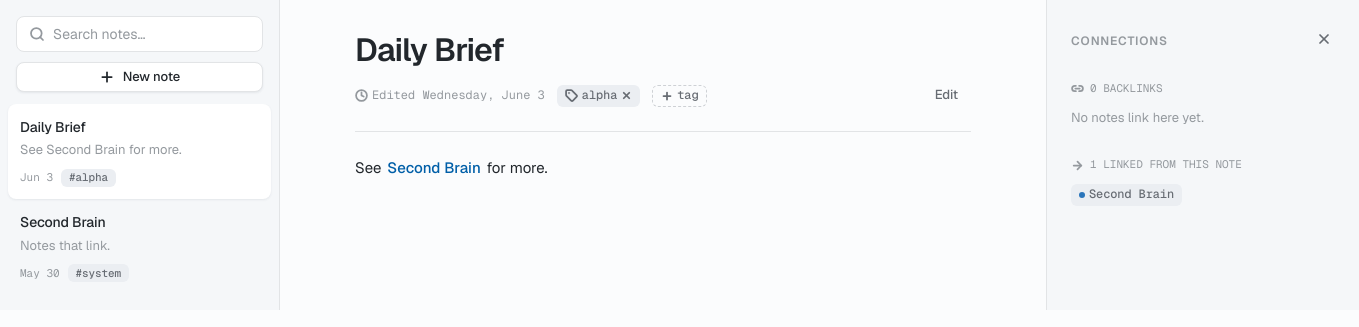
Brain — navigation & editing › follows a [ [wiki-link]] to the target note
Click the link "Second Brain" at (434, 167), box x1=385 y1=158 x2=483 y2=177
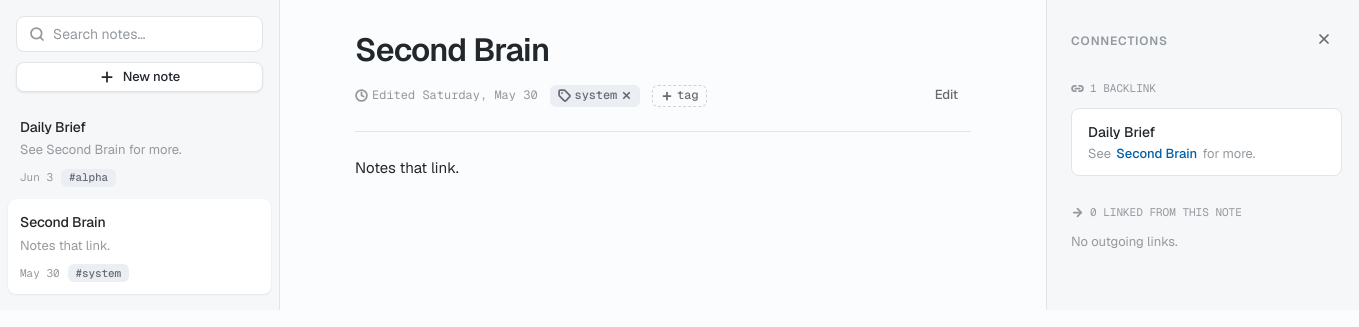
Now the field showing "Second Brain" is shown, box x1=355 y1=32 x2=971 y2=69
